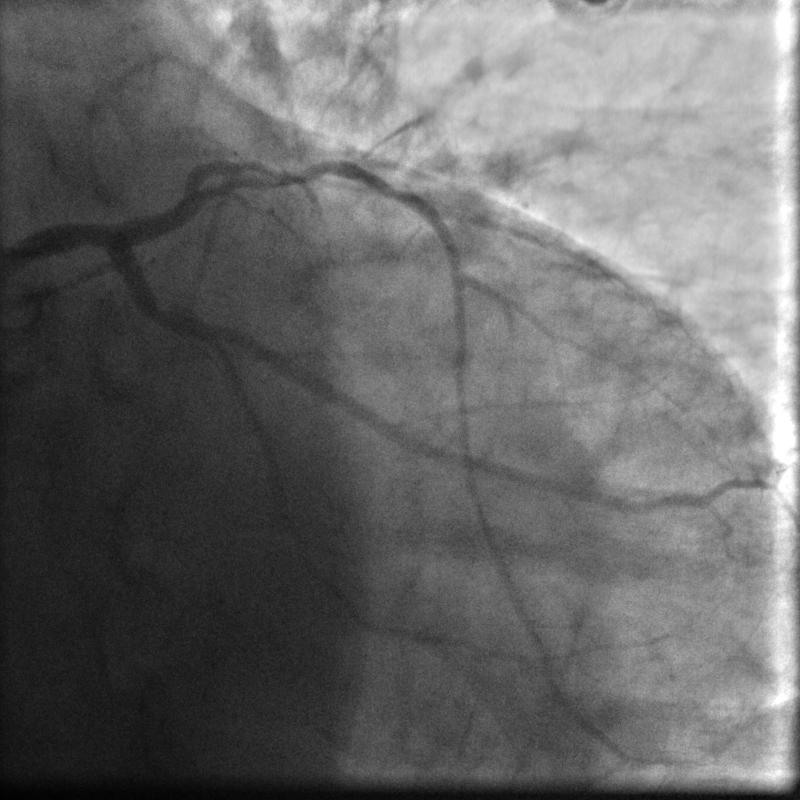Stenosis: (255, 152, 365, 183)
